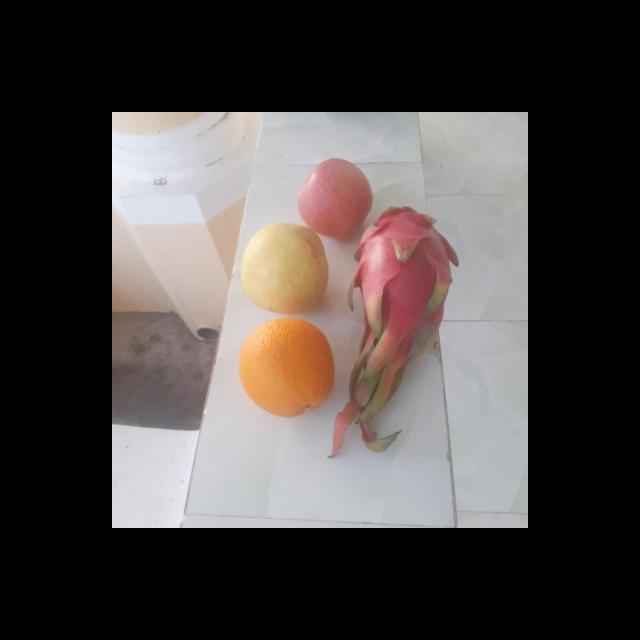apple: (298, 158, 377, 238)
orange: (235, 318, 338, 416)
pear: (236, 223, 334, 313)
pitaya: (352, 205, 464, 336)
